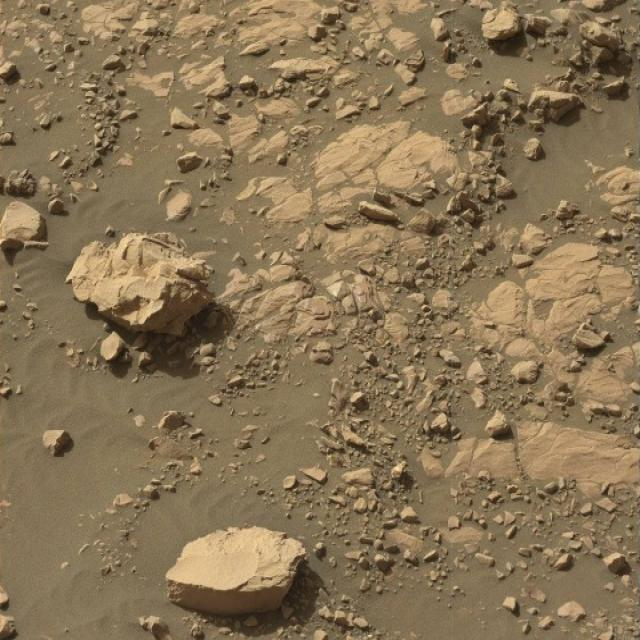mars-rocks: (65, 233, 213, 336), (166, 528, 306, 616)
